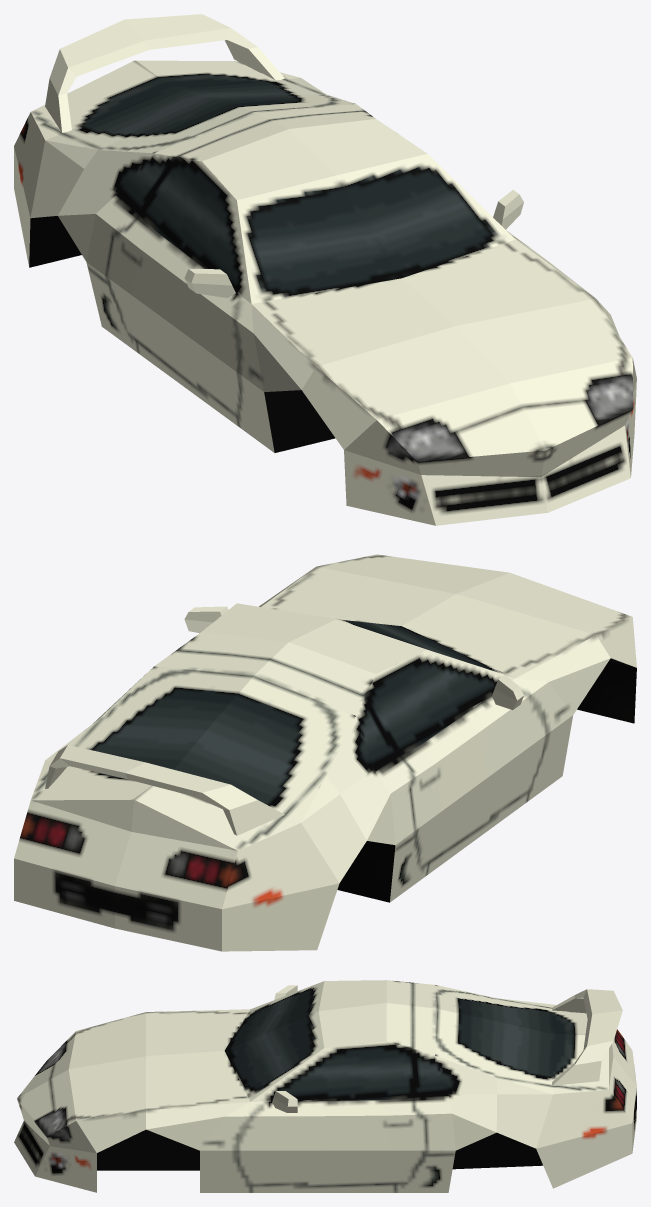
The model's file is supra_a80.obj.
3 views of the same model, one above another, from view 1: azimuth 30°, elevation 25°; view 2: azimuth 150°, elevation 25°; view 3: azimuth 270°, elevation 25° (orthographic). The views are drawn at different scales.
Parts seen in each view (by area): view 1: supra_a80; view 2: supra_a80; view 3: supra_a80.
Boxes of the visible parts, box(x1,y1,x2,y2) form: supra_a80: box(14, 14, 636, 525); supra_a80: box(14, 554, 636, 951); supra_a80: box(14, 980, 636, 1192).
Size of the model in its own units: 2 by 1.11 by 4.51.
Materials: 1 (1 with a texture image).
